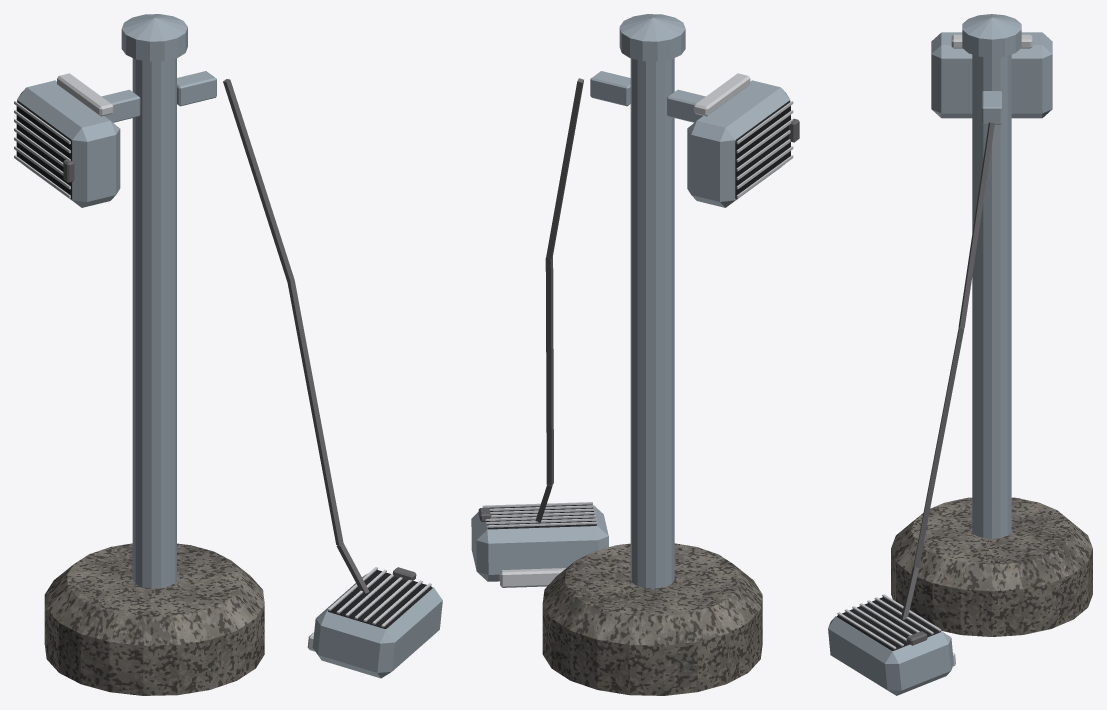
File: poste_som_drivein.glb
3 views of the same model, side by side, from view 1: azimuth 30°, elevation 25°; view 2: azimuth 150°, elevation 25°; view 3: azimuth 270°, elevation 25° (orthographic). The views are drawn at different scales.
Parts seen in each view (by area): view 1: poste_som_drivein_aco_pintado, poste_som_drivein_pedra, poste_som_drivein_aco, poste_som_drivein_plastico_preto, poste_som_drivein_tela_som; view 2: poste_som_drivein_aco_pintado, poste_som_drivein_pedra, poste_som_drivein_aco, poste_som_drivein_plastico_preto, poste_som_drivein_tela_som; view 3: poste_som_drivein_aco_pintado, poste_som_drivein_pedra, poste_som_drivein_plastico_preto, poste_som_drivein_aco, poste_som_drivein_tela_som.
Part boxes in pixels (bbox=[...]): poste_som_drivein_aco_pintado: bbox=[17, 14, 442, 678]; poste_som_drivein_pedra: bbox=[44, 543, 264, 695]; poste_som_drivein_aco: bbox=[14, 73, 431, 651]; poste_som_drivein_plastico_preto: bbox=[223, 79, 369, 593]; poste_som_drivein_tela_som: bbox=[16, 101, 432, 628]; poste_som_drivein_aco_pintado: bbox=[471, 14, 790, 588]; poste_som_drivein_pedra: bbox=[542, 543, 762, 695]; poste_som_drivein_aco: bbox=[482, 73, 793, 587]; poste_som_drivein_plastico_preto: bbox=[535, 78, 583, 522]; poste_som_drivein_tela_som: bbox=[486, 101, 790, 529]; poste_som_drivein_aco_pintado: bbox=[828, 14, 1052, 695]; poste_som_drivein_pedra: bbox=[891, 497, 1092, 636]; poste_som_drivein_plastico_preto: bbox=[901, 122, 994, 619]; poste_som_drivein_aco: bbox=[837, 34, 1032, 666]; poste_som_drivein_tela_som: bbox=[837, 597, 940, 650].
Bounding box in the file's own units: 0.7294 × 1.27 × 0.5246.
6 materials, 2 textured.
